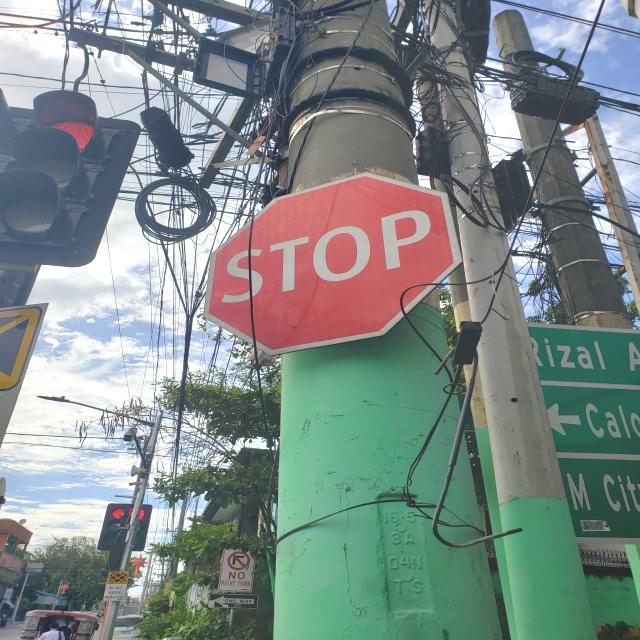stop-sign: (204, 172, 464, 357)
